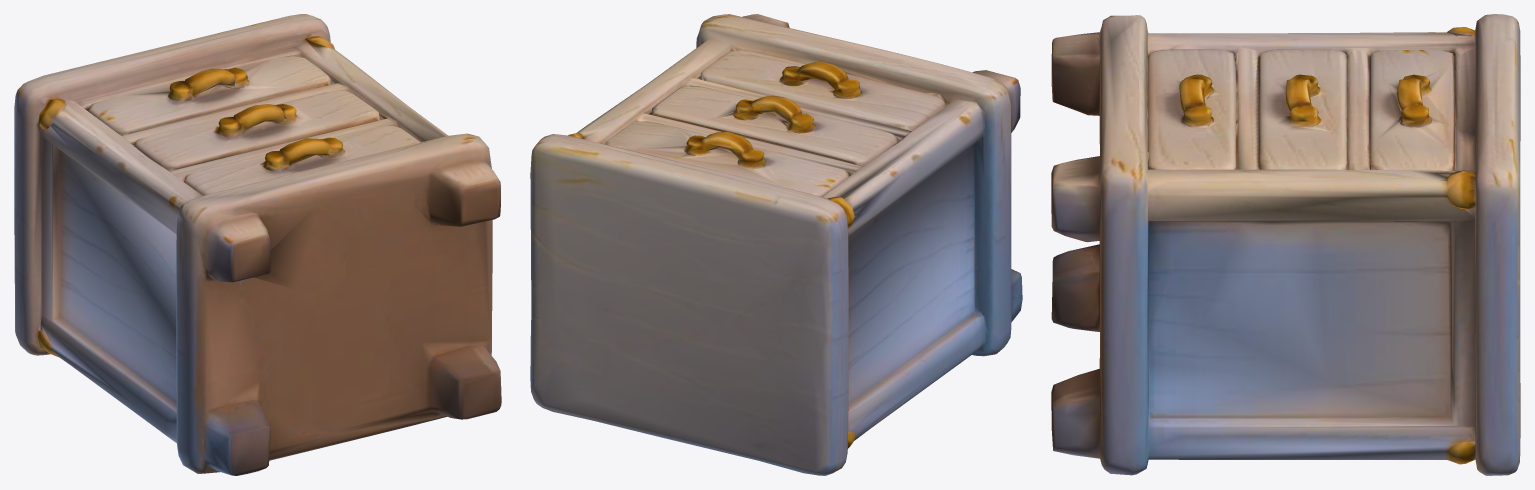
3 renders of one model, left to right at view 1: azimuth 30°, elevation 25°; view 2: azimuth 150°, elevation 25°; view 3: azimuth 270°, elevation 25°, orthographic. The views are drawn at different scales.
Visible parts, largest first — view 1: material; view 2: material; view 3: material.
Boxes of the visible parts, x1,y1,x2,y2 form: material: (14,14,501,475); material: (530,14,1022,475); material: (1051,14,1520,475).
Size of the model in its own units: 0.8634 by 0.7457 by 1.
Materials: 1 (1 with a texture image).
